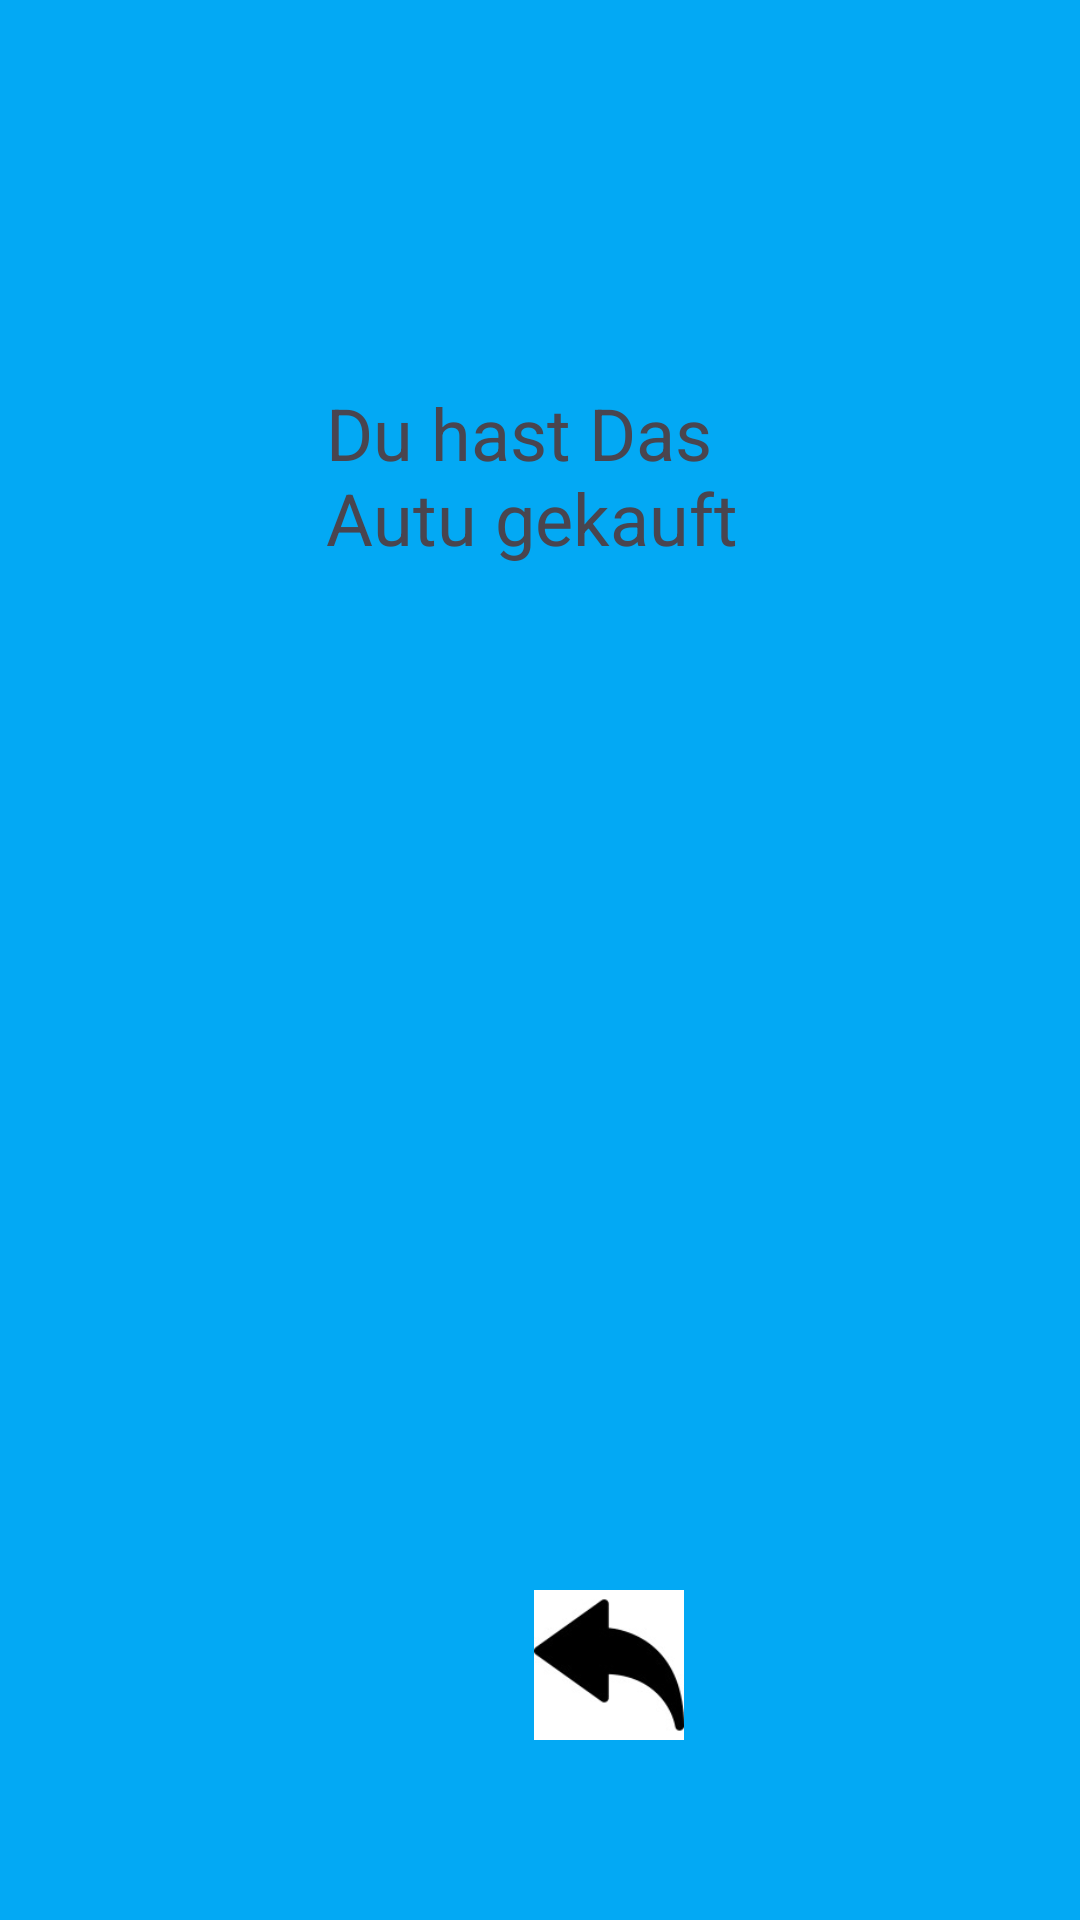

Icon bounding boxes for this 1080*1920 phone screenshot, format bbox=[x1, y1, x2, y2]:
back: bbox=[534, 1590, 684, 1740]
